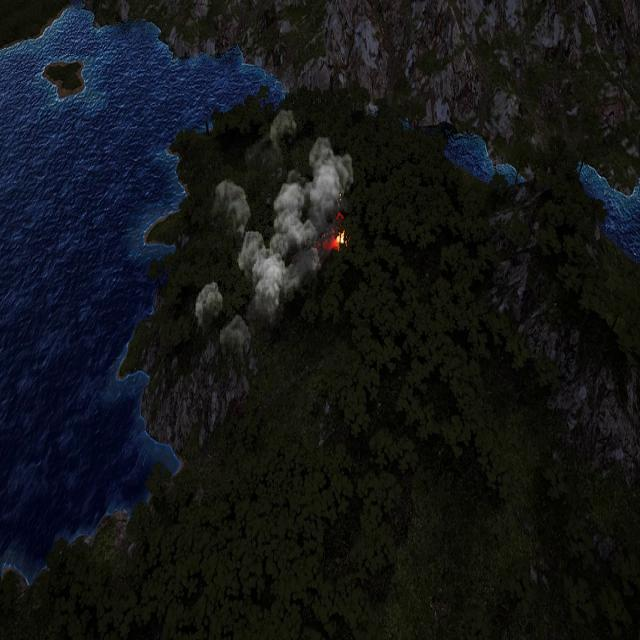fire: (325, 231, 345, 255)
smoke: (193, 136, 352, 365)
